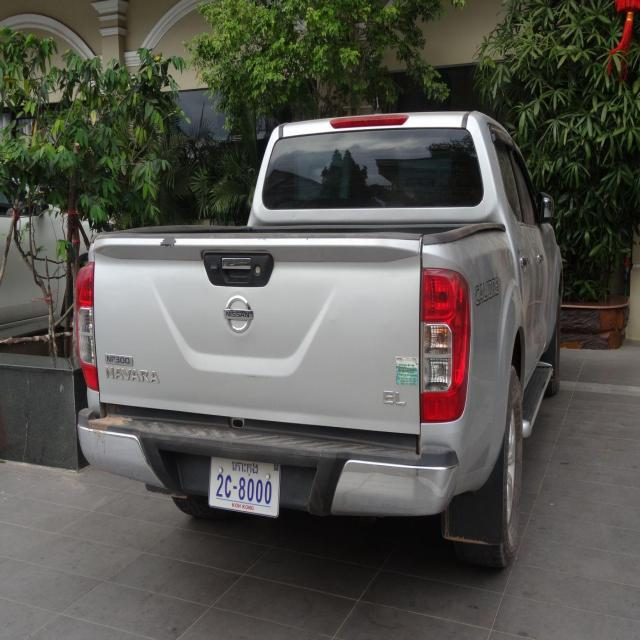Koh_Kong: (230, 458, 260, 476)
